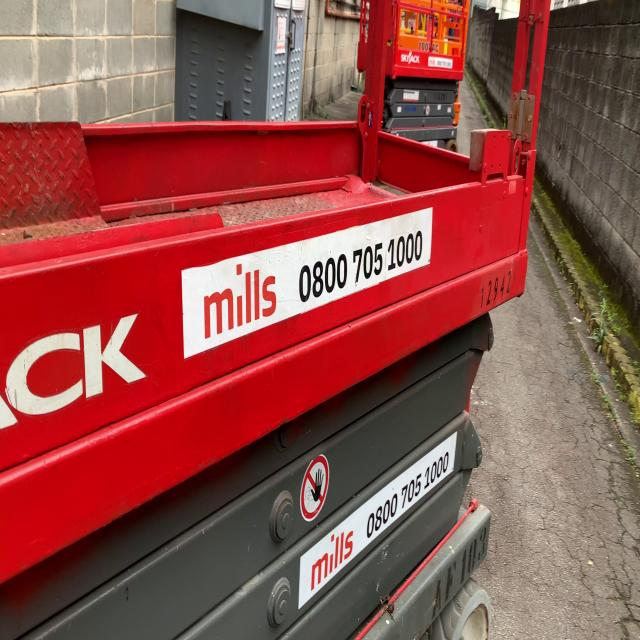Adesivo Longo: (179, 204, 435, 364), (297, 428, 458, 614)
